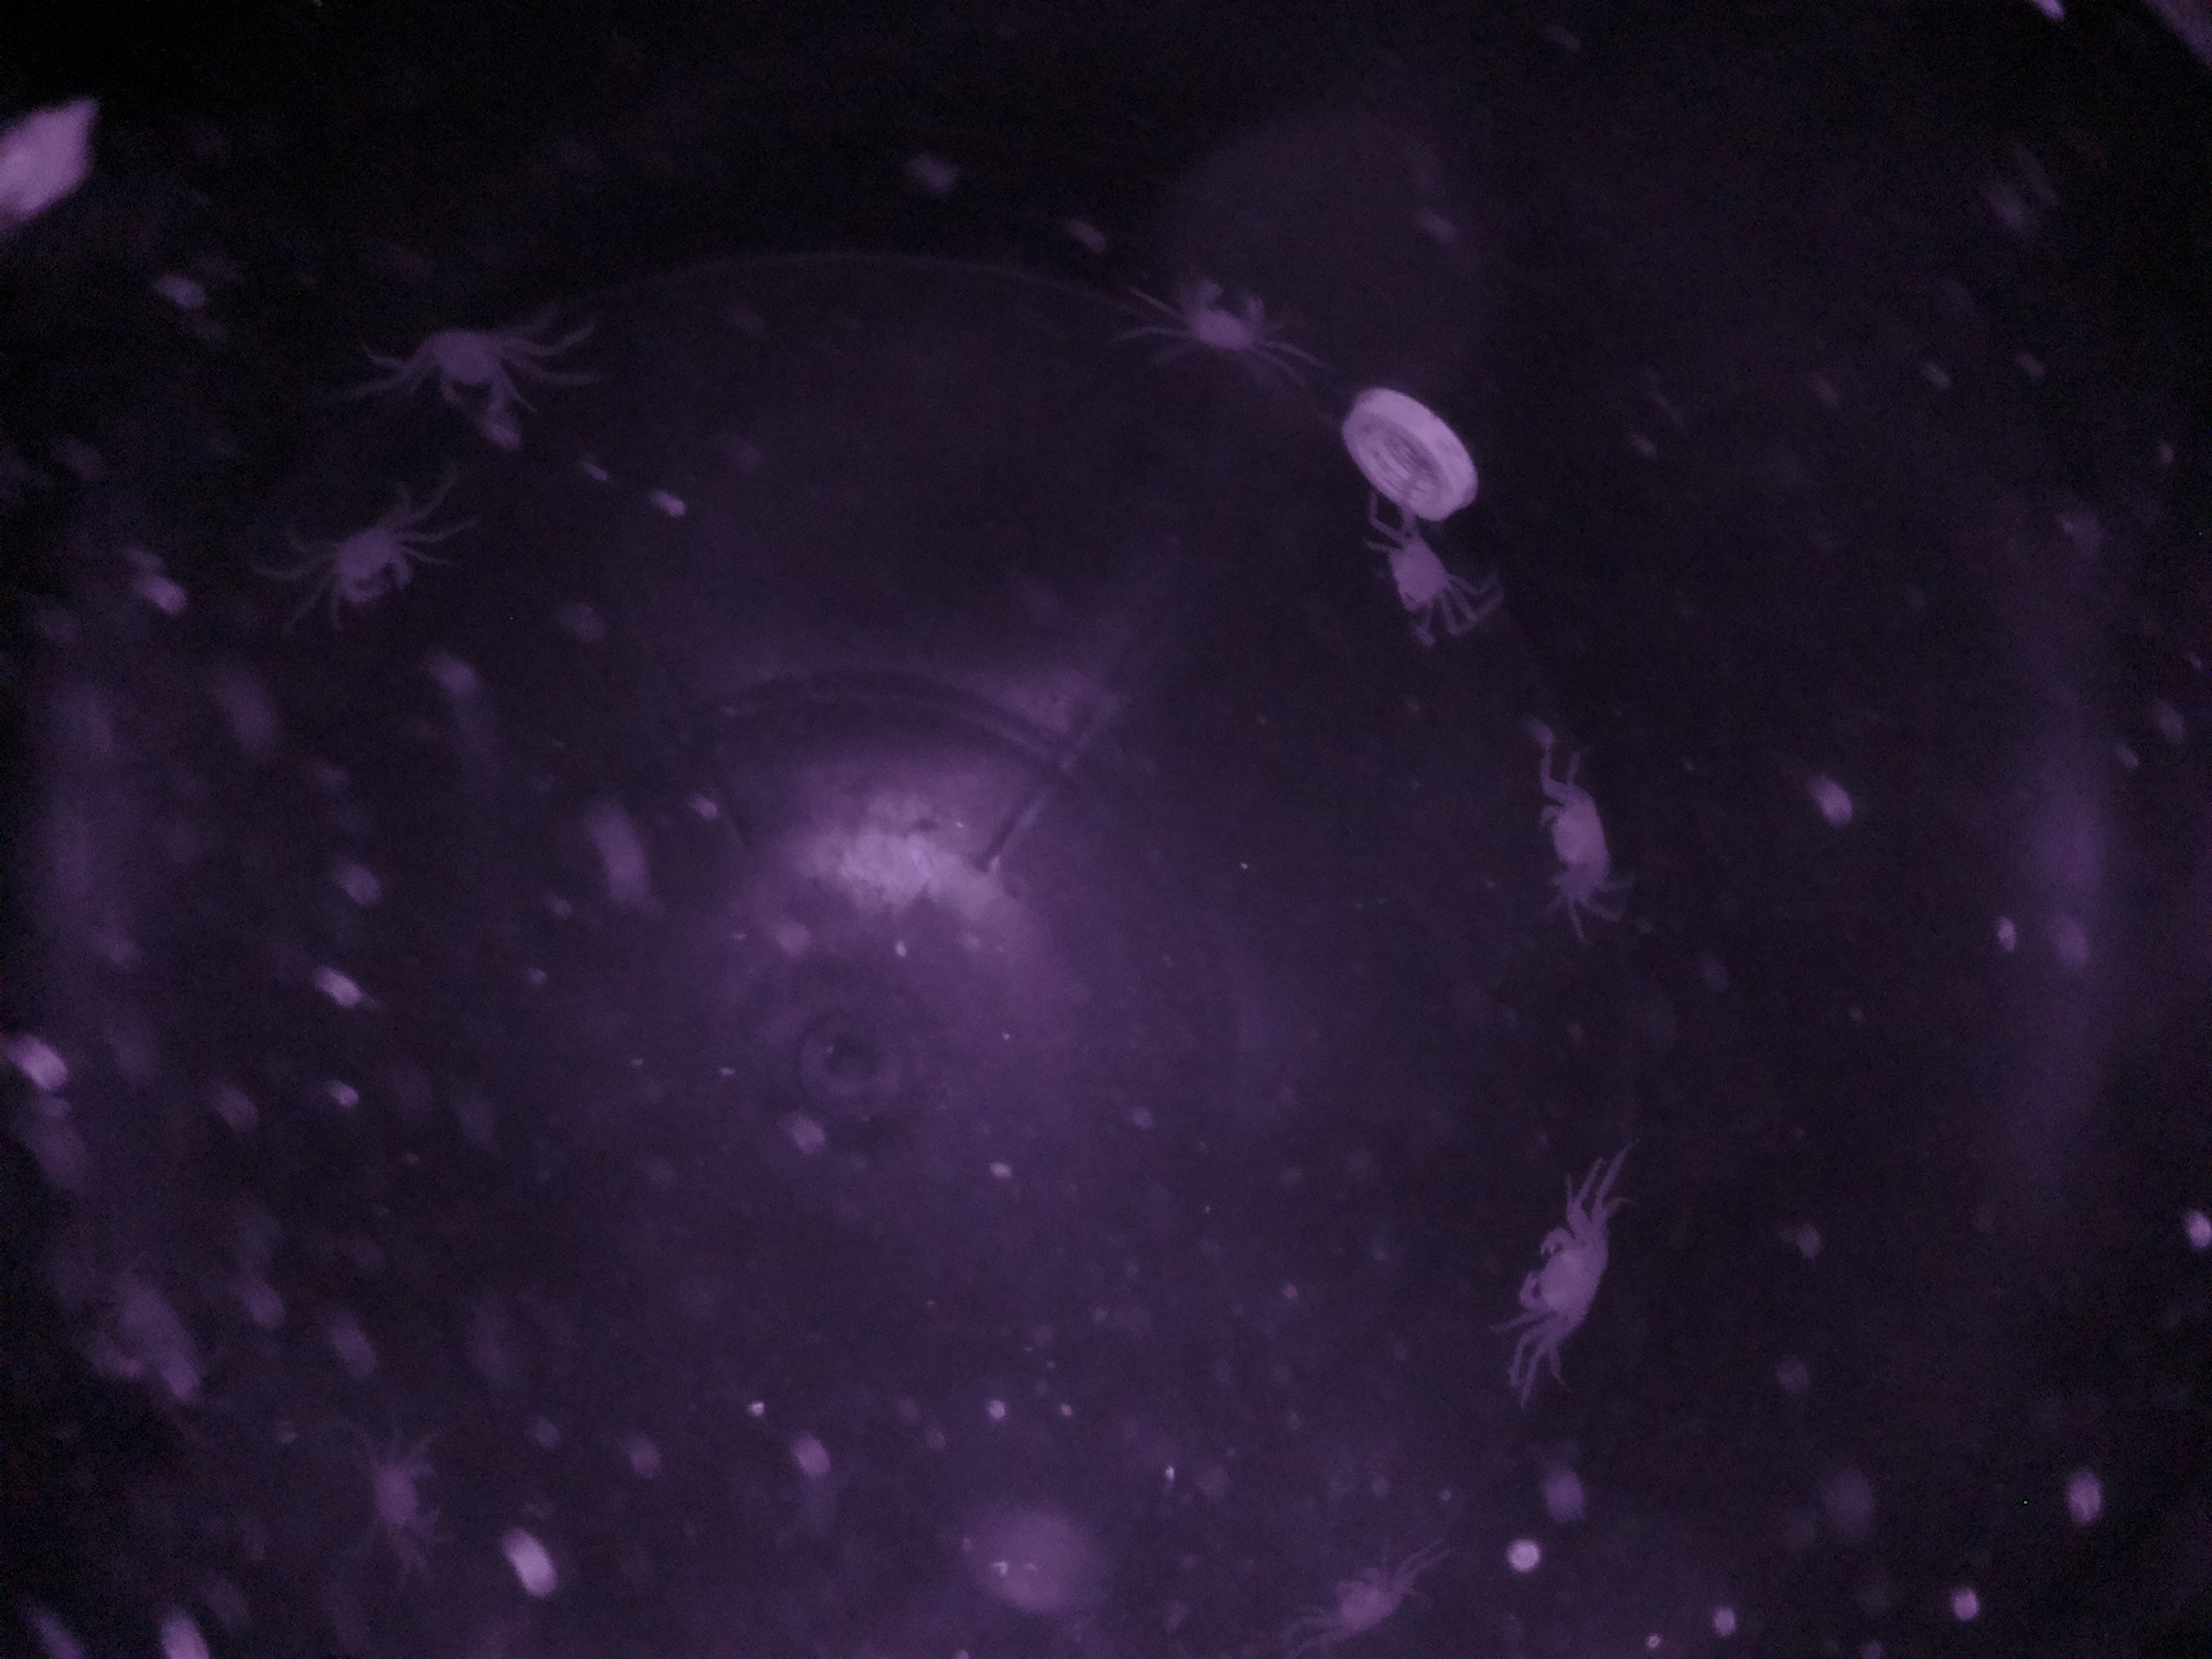Crab: (392, 305, 538, 448), (1489, 1209, 1634, 1345), (1165, 254, 1287, 382), (315, 505, 427, 631), (1522, 774, 1634, 892), (1360, 516, 1470, 626)
